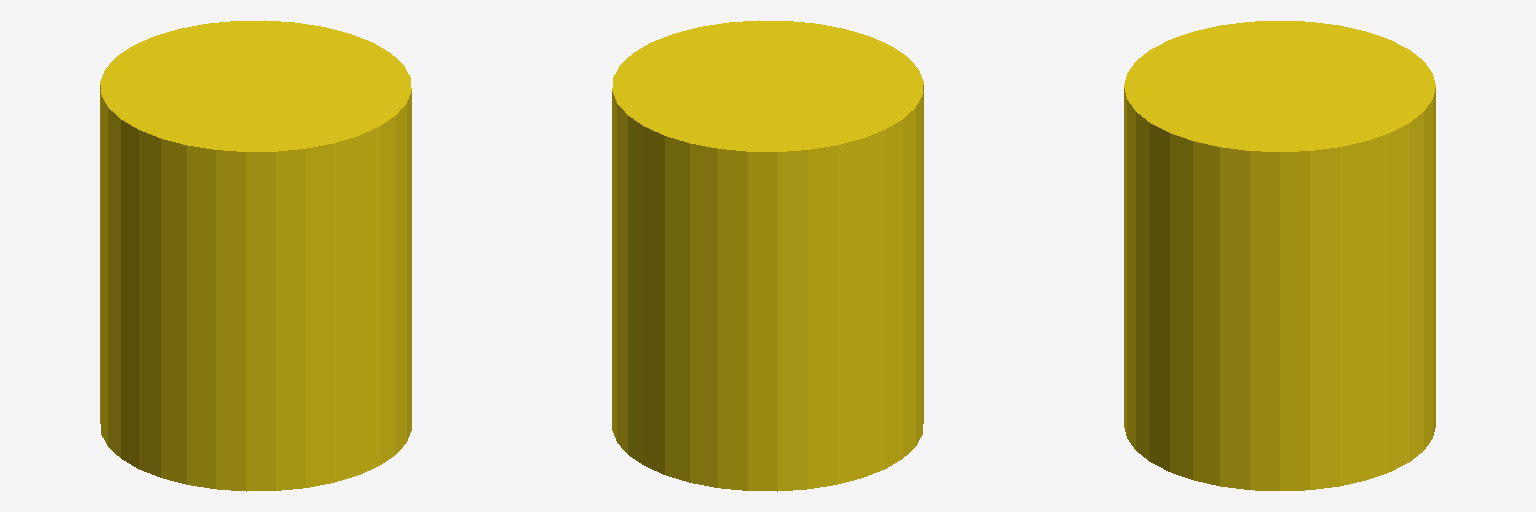
The robot description file, URDF, robot "yellow_cylinder":
<?xml version="1.0"?>
<robot name="yellow_cylinder">
  <link name="base_link">
    <contact>
      <lateral_friction value="0.9"/>
      <rolling_friction value="0.03"/>
      <spinning_friction value="0.03"/>
      <restitution value="0.0"/>
    </contact>
    <inertial>
      <origin rpy="0 0 0" xyz="0 0 0"/>
      <mass value="0.5"/>
      <inertia ixx="0.001" ixy="0" ixz="0" iyy="0.001" iyz="0" izz="0.001"/>
    </inertial>
    <visual>
      <origin rpy="0 0 0" xyz="0 0 0"/>
      <geometry>
        <cylinder radius="0.05" length="0.12"/>
      </geometry>
      <material name="yellow">
        <color rgba="0.950 0.850 0.120 1.000"/>
      </material>
    </visual>
    <collision>
      <origin rpy="0 0 0" xyz="0 0 0"/>
      <geometry>
        <cylinder radius="0.05" length="0.12"/>
      </geometry>
    </collision>
  </link>
</robot>

--- What the picture shows (computed from the rendered views, not written in the file) ---
3 views of the same robot in one strip: view 1: azimuth 30°, elevation 25°; view 2: azimuth 150°, elevation 25°; view 3: azimuth 270°, elevation 25° (orthographic).
Robot: yellow_cylinder — 1 links, 0 joints (none); root link base_link; default pose: every joint at zero.
Visible links, largest first — view 1: base_link; view 2: base_link; view 3: base_link.
Link boxes in pixels (x1,y1,x2,y2): base_link: (100, 20, 411, 491); base_link: (612, 20, 923, 491); base_link: (1124, 21, 1435, 490).
Size in the robot's own frame: 0.1 by 0.1 by 0.12 metres.
Geometry: primitives only (box / cylinder / sphere), no mesh files.
